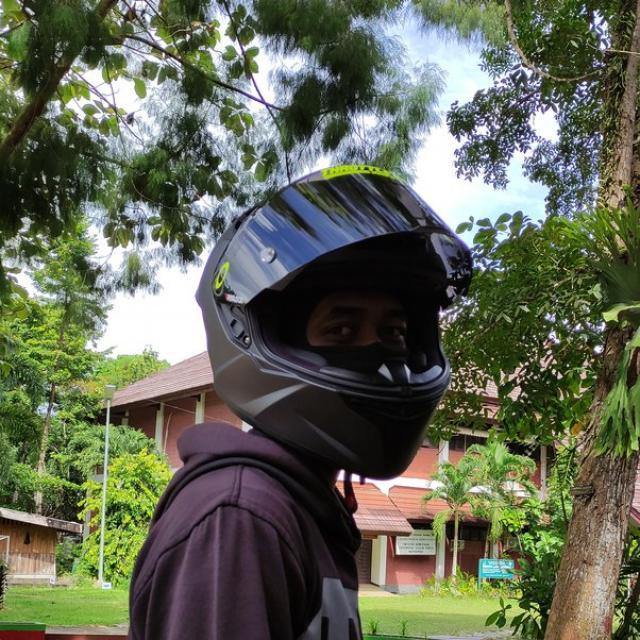Helm: (190, 168, 470, 486)
